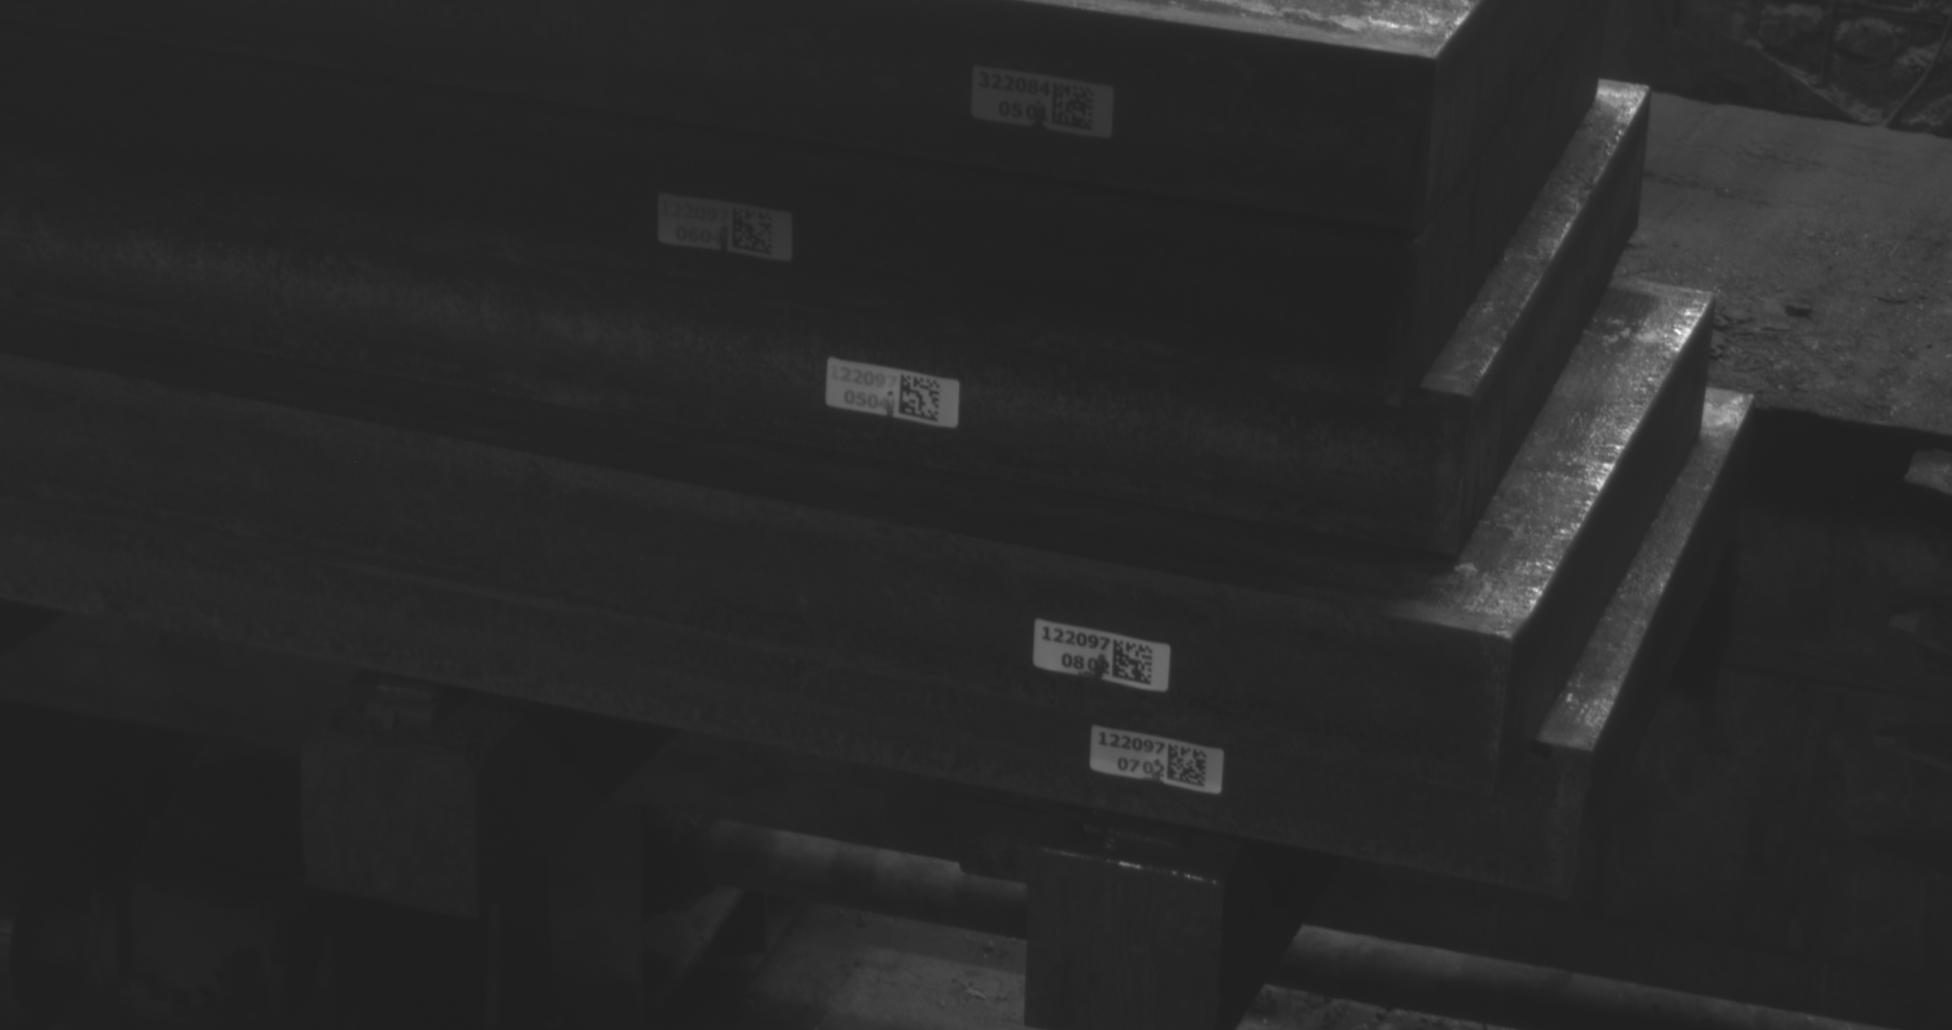data matrix: (1166, 740, 1214, 795), (1050, 80, 1099, 133), (897, 372, 945, 425), (729, 205, 777, 257), (1112, 638, 1157, 688)
